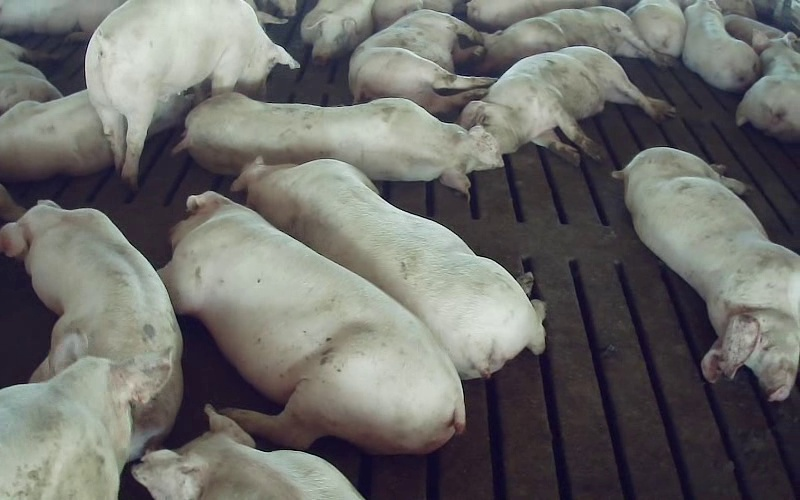pig: (160, 192, 464, 453), (233, 159, 544, 378), (0, 201, 181, 457), (175, 93, 502, 193), (0, 333, 171, 499), (459, 46, 674, 164), (132, 405, 363, 499), (348, 9, 494, 115), (473, 6, 670, 74), (682, 0, 760, 92), (736, 31, 799, 142), (627, 0, 685, 57)
